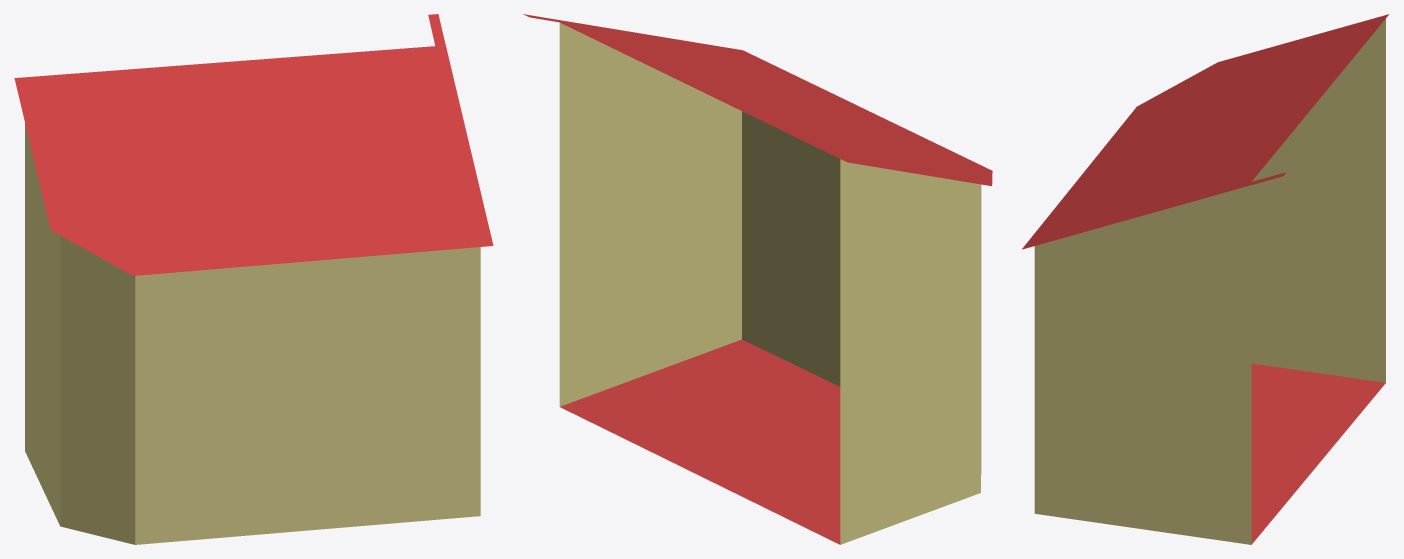
3 renders of one model, left to right at view 1: azimuth 30°, elevation 25°; view 2: azimuth 150°, elevation 25°; view 3: azimuth 270°, elevation 25°, orthographic. The views are drawn at different scales.
Bounding box in the file's own units: 11.25 × 8.74 × 9.9.
